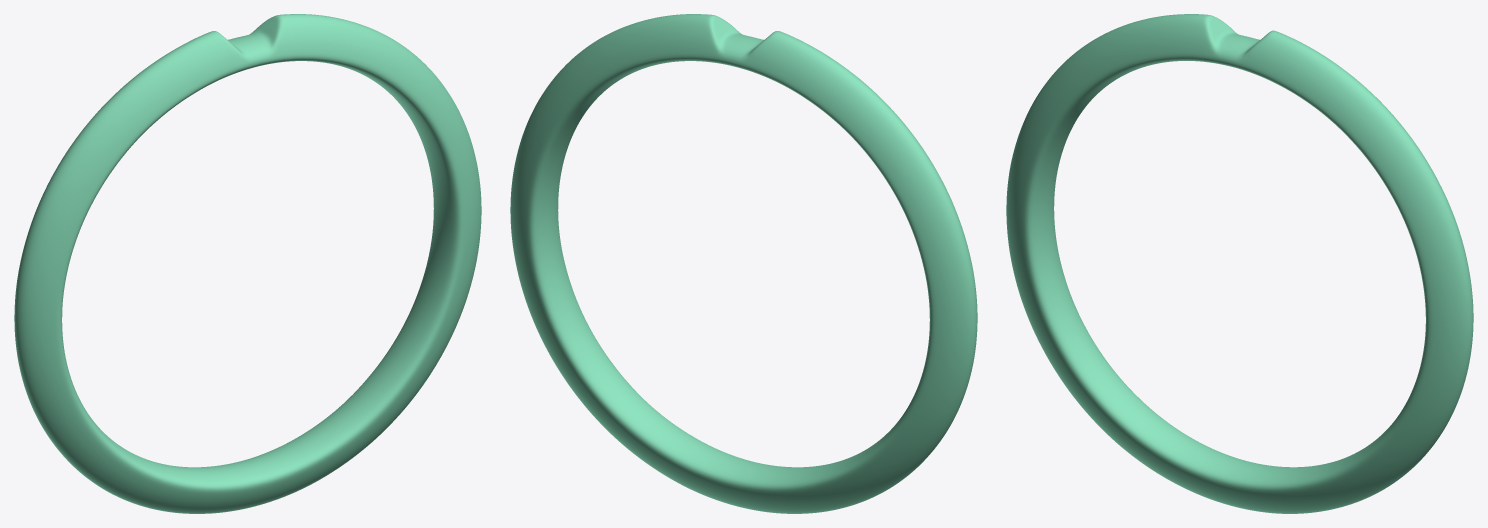
3 renders of one model, left to right at view 1: azimuth 30°, elevation 25°; view 2: azimuth 150°, elevation 25°; view 3: azimuth 330°, elevation 25°, orthographic.
Visible parts, largest first — view 1: Metal02; view 2: Metal02; view 3: Metal02.
Boxes of the visible parts, left/top/right/bottom form: Metal02: left=14, top=14, right=481, bottom=513; Metal02: left=510, top=14, right=977, bottom=513; Metal02: left=1006, top=14, right=1473, bottom=513.
Bounding box in the file's own units: 20.89 × 20.78 × 1.98.
